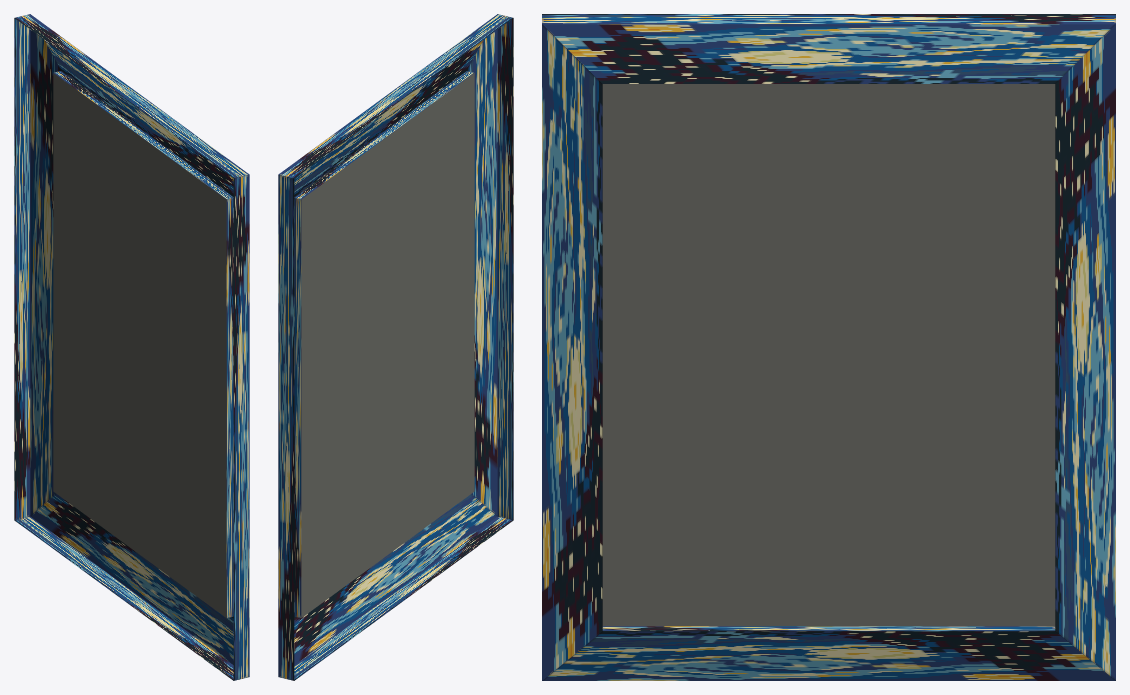
File: picture2_wip.fbx
The picture shows the model from 3 angles, left to right: view 1: azimuth 30°, elevation 25°; view 2: azimuth 150°, elevation 25°; view 3: azimuth 270°, elevation 25°; orthographic projection. The views are drawn at different scales.
Visible parts, largest first — view 1: Plane; view 2: Plane; view 3: Plane.
Part boxes in pixels (left/top/right/bottom): Plane: left=14, top=14, right=249, bottom=680; Plane: left=278, top=14, right=513, bottom=680; Plane: left=542, top=14, right=1115, bottom=680.
Bounding box in the file's own units: 0.03 × 0.6 × 0.475.
2 materials, 1 textured.
